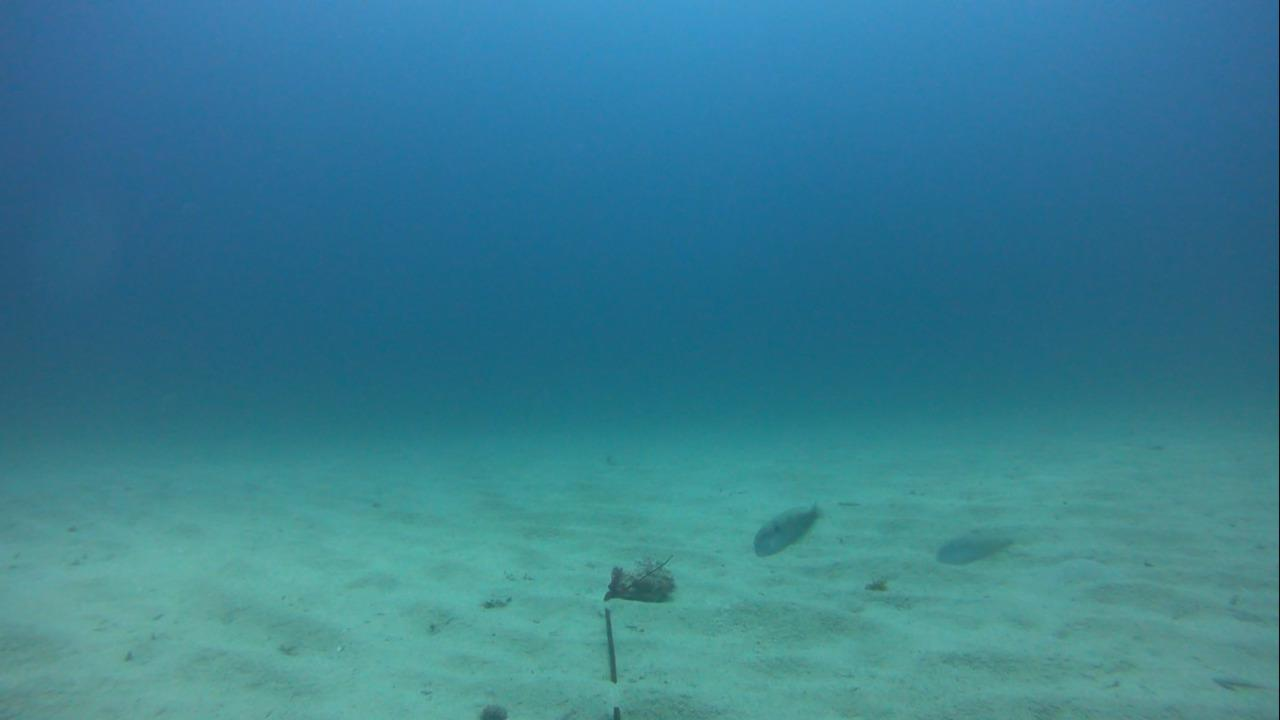raor: (749, 501, 829, 563), (933, 530, 1019, 571)
